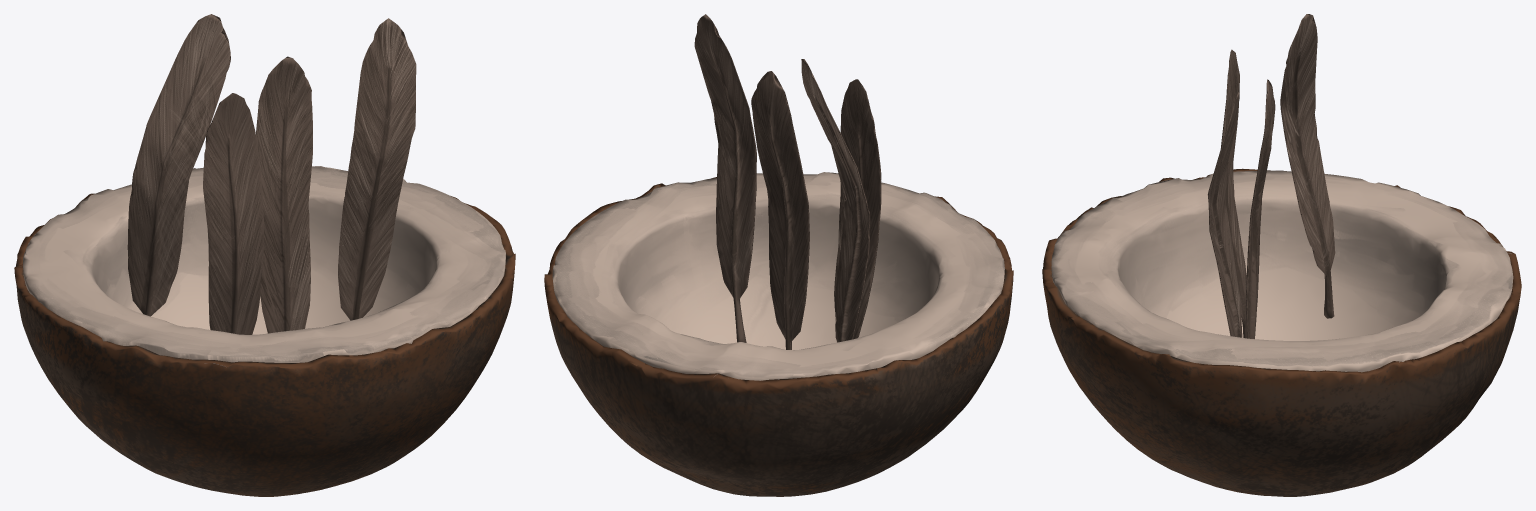
File: Plumasdecoco.obj
3 renders of one model, left to right at view 1: azimuth 30°, elevation 25°; view 2: azimuth 150°, elevation 25°; view 3: azimuth 270°, elevation 25°, orthographic. The views are drawn at different scales.
Visible parts, largest first — view 1: Plumas_lambert6SG, Cascara_Cascara, Coco_Coco; view 2: Coco_Coco, Cascara_Cascara, Plumas_lambert6SG; view 3: Coco_Coco, Cascara_Cascara, Plumas_lambert6SG.
Boxes of the visible parts, x1=… form: Plumas_lambert6SG: x1=127, y1=14, x2=416, y2=334; Cascara_Cascara: x1=14, y1=166, x2=515, y2=496; Coco_Coco: x1=23, y1=166, x2=505, y2=362; Coco_Coco: x1=552, y1=172, x2=1004, y2=380; Cascara_Cascara: x1=544, y1=177, x2=1013, y2=496; Plumas_lambert6SG: x1=694, y1=14, x2=881, y2=349; Coco_Coco: x1=1051, y1=170, x2=1513, y2=372; Cascara_Cascara: x1=1042, y1=168, x2=1521, y2=496; Plumas_lambert6SG: x1=1207, y1=14, x2=1335, y2=338.
Size of the model in its own units: 1.45 by 1.47 by 1.45.
3 materials, 3 textured.
